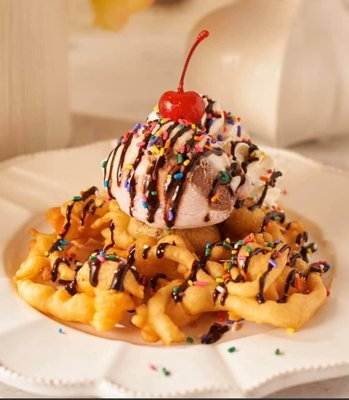salad: (140, 212, 332, 339)
sushi: (100, 90, 260, 233)
